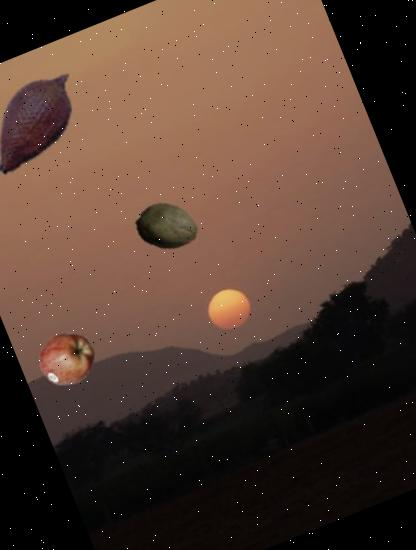Apple: (30, 321, 104, 395)
Papaya: (128, 188, 206, 266)
Salak: (0, 41, 113, 199)
